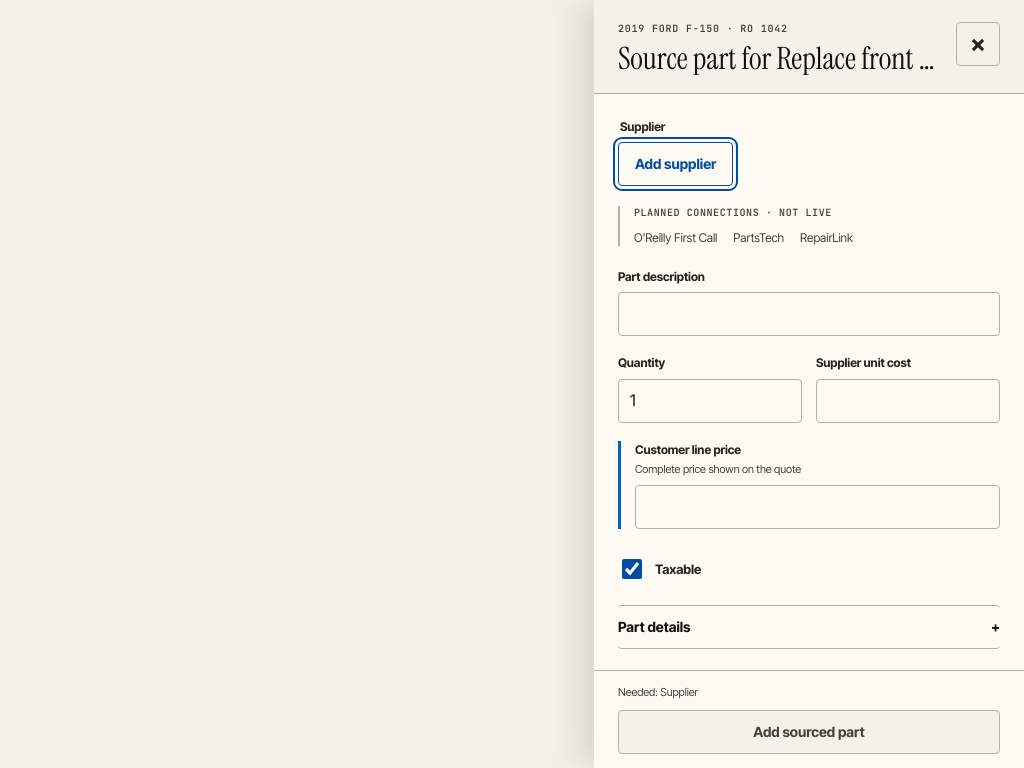
ManualPartSourcing › rejects account creation returning a different supplier id before selection or announcement
The width and height of the screenshot is (1024, 768).
Click the button "Add supplier".
click(676, 164)  # box [618,142,733,186]
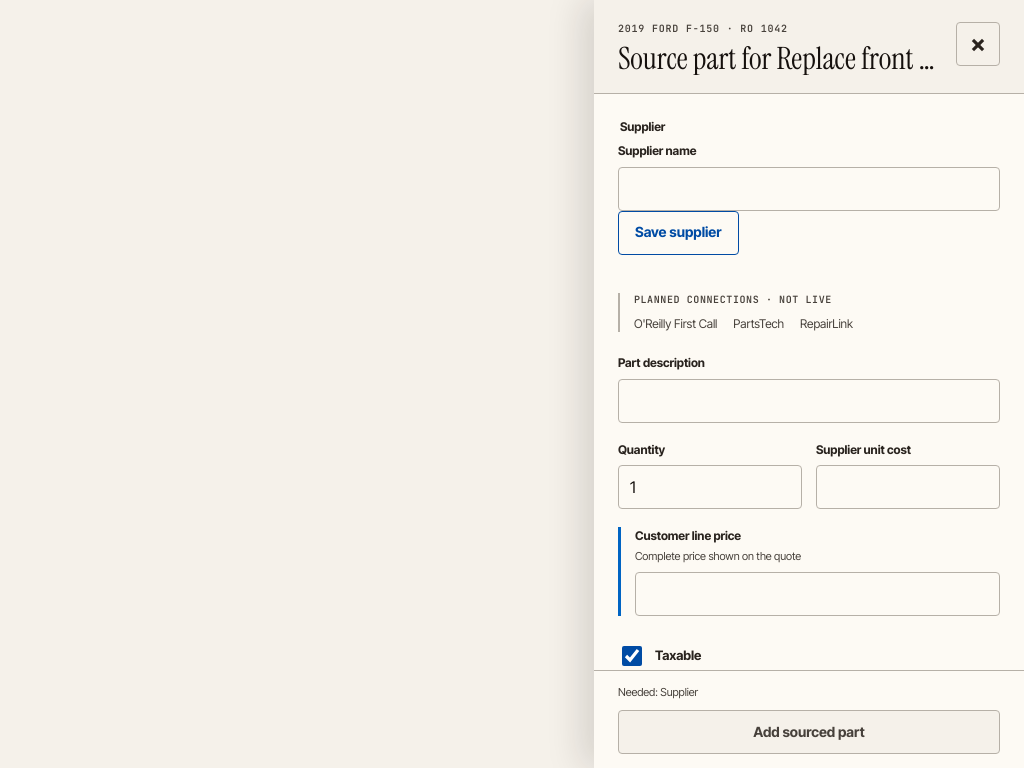
Type "Metro Supply" into the field labelled "Supplier name".
click(809, 188); type("Metro Supply")  # box [618,166,1000,210]
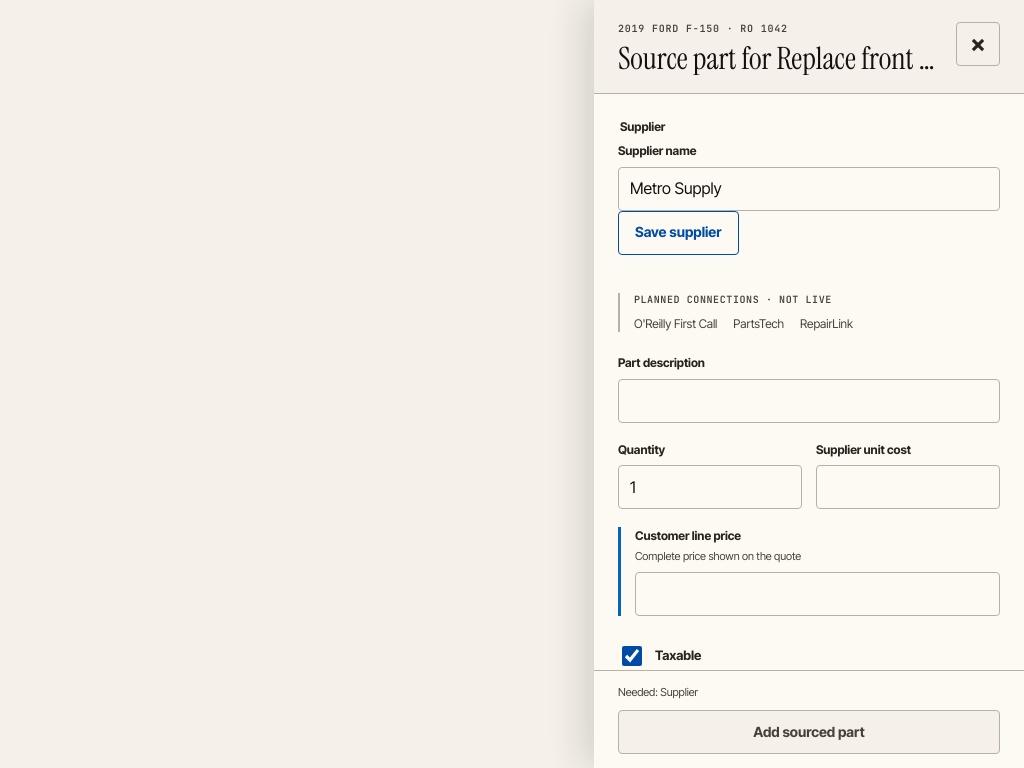
Click the button "Save supplier".
click(678, 232)  # box [618,210,738,254]
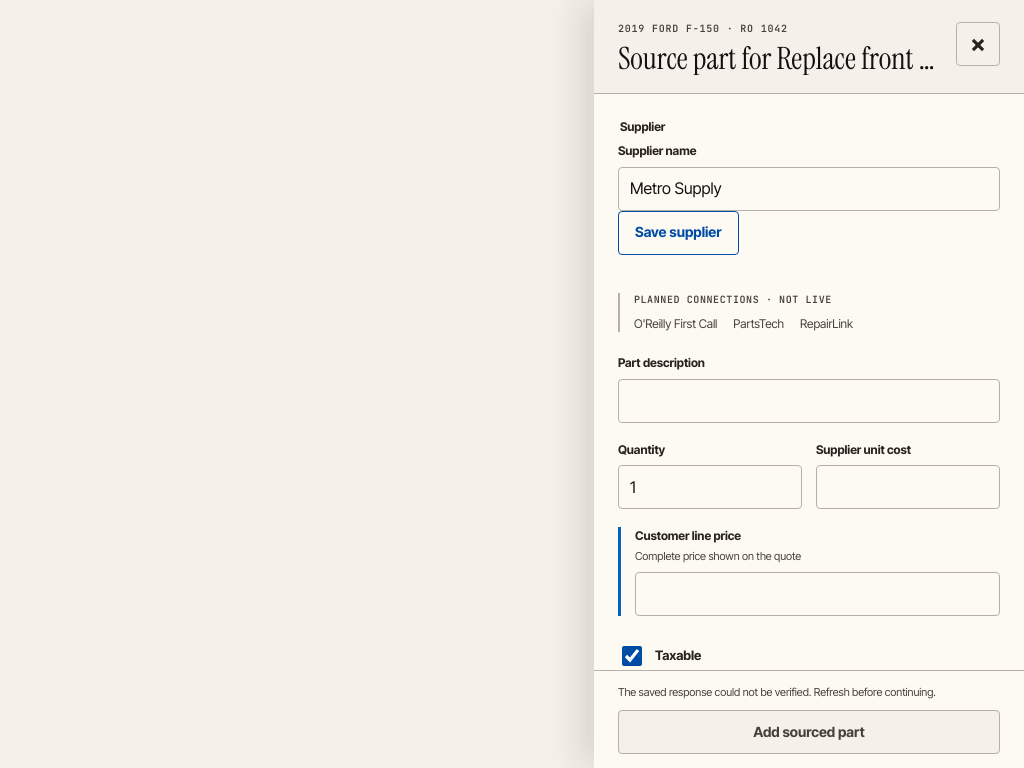
Expected: the message reads "The saved response could not be verified. Refresh before continuing.", [618,685,936,699]
